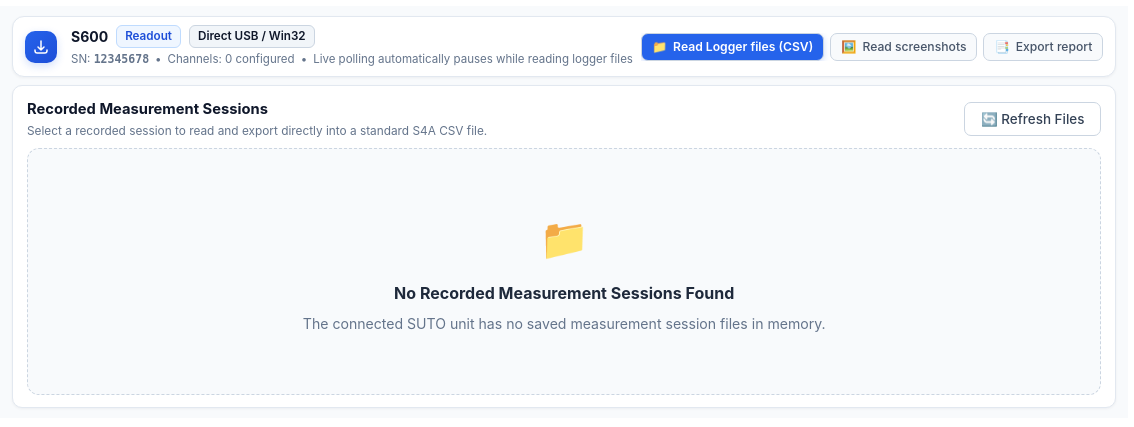
ReadoutView Dedicated Page Component › shows report export tab with sub-tab refresh for S600 devices by name or device_id
This screenshot has width=1134, height=427.
expect the text "Read Logger files (CSV)" is shown: met, box left=673, top=39, right=813, bottom=54
Click the text "Export report" at (1054, 46), box left=1016, top=39, right=1092, bottom=54
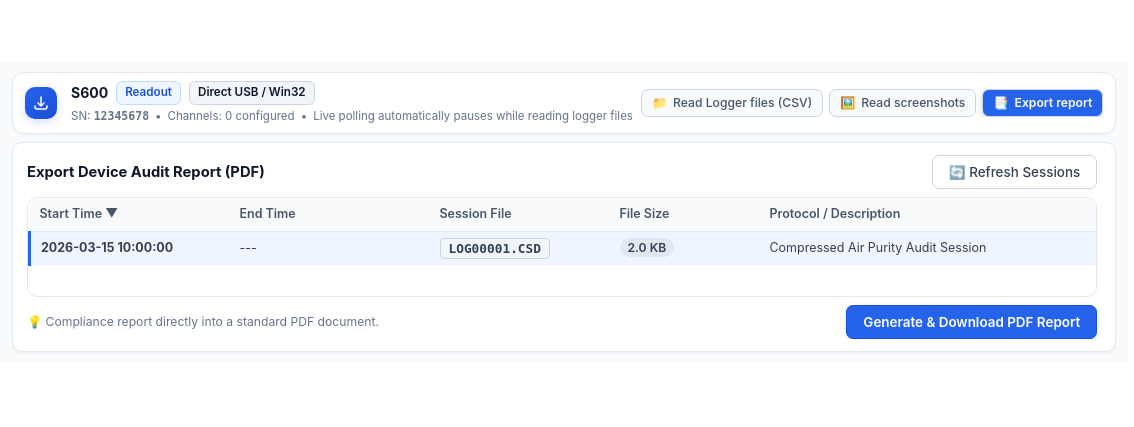
expect the button "🔄 Refresh Sessions" is shown: met, box left=932, top=155, right=1097, bottom=189
expect the heading "Export Device Audit Report (PDF)" is shown: met, box left=27, top=161, right=265, bottom=183
expect the text "LOG00001.CSD" is shown: met, box left=440, top=238, right=550, bottom=259
